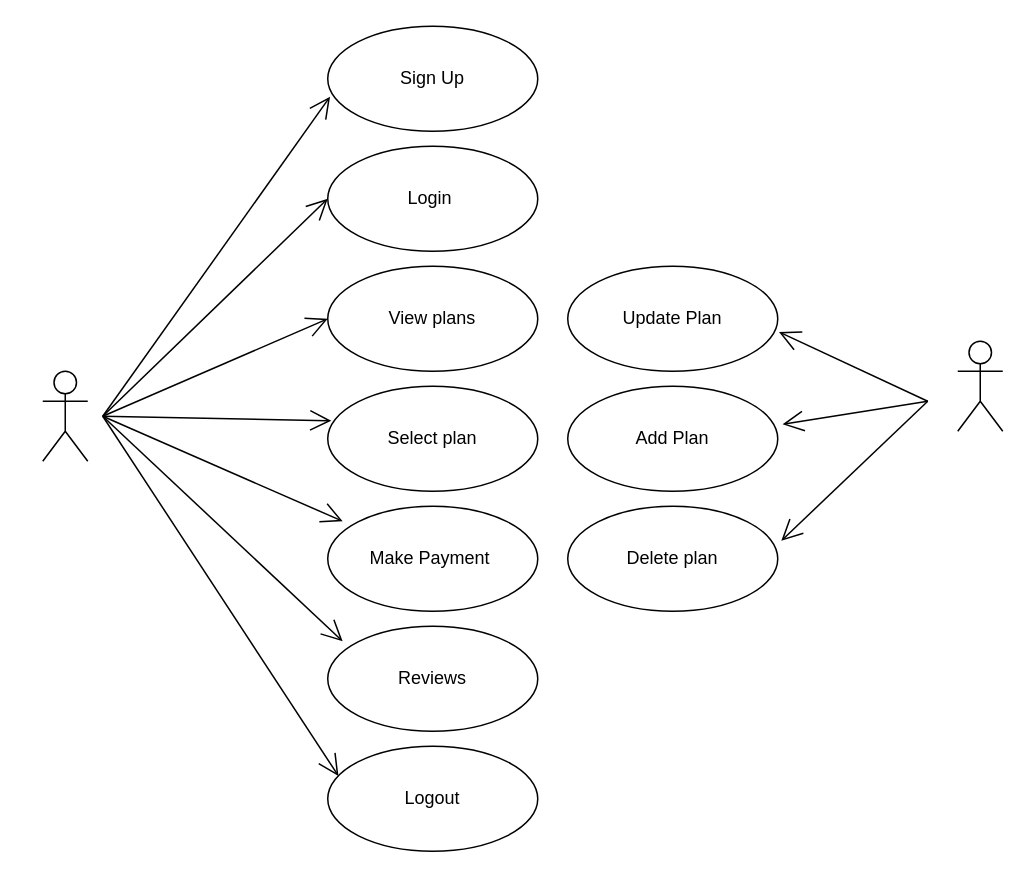
Some shapes in this 1031 by 878 pixel diagram are drawn without their labels. Each missing label, with the centre of its shape:
"Admin" goes at [979,385].
"Customer" goes at [64,415].
